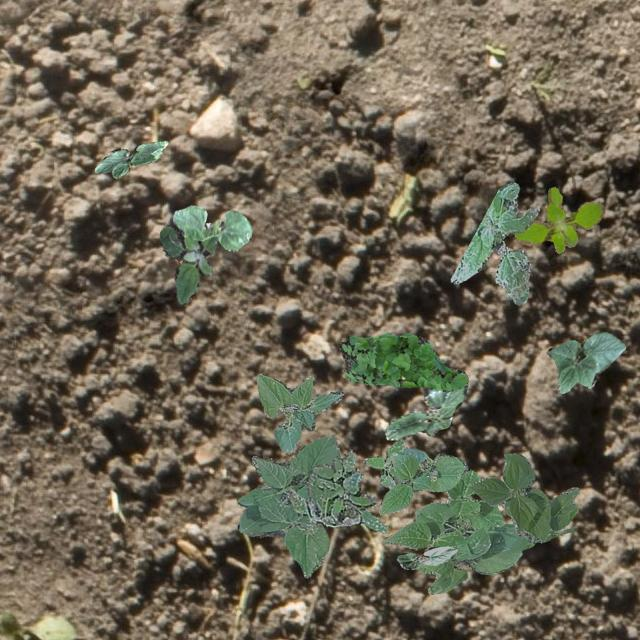crop: (381, 468, 521, 594), (236, 434, 340, 576), (468, 452, 578, 552), (255, 372, 342, 452), (378, 446, 467, 514), (384, 382, 468, 441), (546, 330, 624, 392), (172, 204, 252, 250), (94, 140, 166, 178), (396, 546, 456, 568)
weed: (449, 180, 538, 304), (286, 448, 386, 532), (338, 332, 468, 391), (514, 185, 602, 252), (158, 226, 218, 304), (362, 438, 404, 488)
